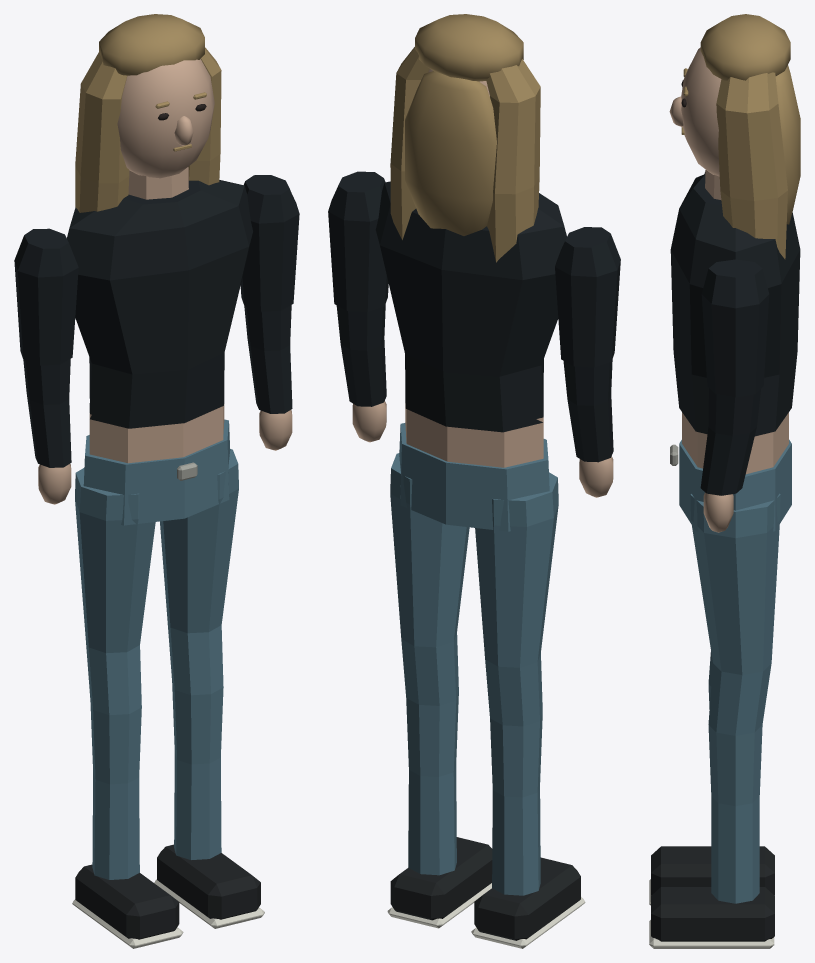
The model's file is person-4.glb.
3 views of the same model, side by side, from view 1: azimuth 30°, elevation 25°; view 2: azimuth 150°, elevation 25°; view 3: azimuth 270°, elevation 25° (orthographic). The views are drawn at different scales.
Visible parts, largest first — view 1: body, leg_l, knee_l, knee_r, arm_l, arm_r, leg_r; view 2: body, leg_l, knee_l, knee_r, arm_l, leg_r, arm_r; view 3: body, knee_r, leg_r, arm_r, knee_l.
Part boxes in pixels (box(x1,y1,x2,y2)): body: box(67, 14, 252, 525); leg_l: box(75, 468, 155, 715); knee_l: box(72, 702, 183, 948); knee_r: box(154, 682, 264, 928); arm_l: box(14, 228, 78, 504); arm_r: box(240, 175, 299, 450); leg_r: box(160, 449, 238, 695); body: box(375, 14, 566, 531); leg_l: box(475, 472, 558, 726); knee_l: box(471, 713, 585, 948); knee_r: box(387, 692, 492, 928); arm_l: box(555, 227, 620, 497); leg_r: box(390, 453, 469, 705); arm_r: box(328, 171, 388, 442); body: box(669, 14, 800, 531); knee_r: box(649, 725, 774, 948); leg_r: box(690, 493, 780, 735); arm_r: box(700, 259, 769, 532); knee_l: box(649, 684, 774, 905).
Bounding box in the file's own units: 0.1044 × 0.3148 × 0.0483.
